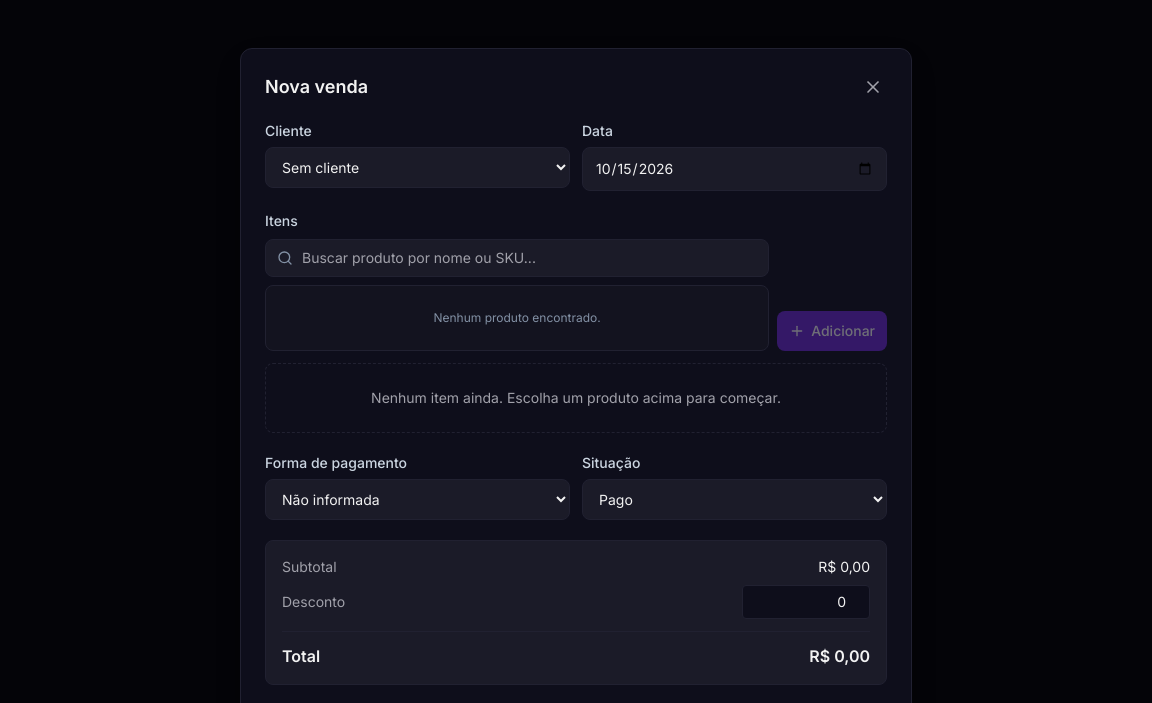
Test case: Fiado: venda a prazo pede quando cobrar › os campos do fiado só aparecem quando a venda é a prazo
Select "Pendente" in the dropdown labelled "Situação". click: [734, 500]
box: x1=582 y1=479 x2=887 y2=520
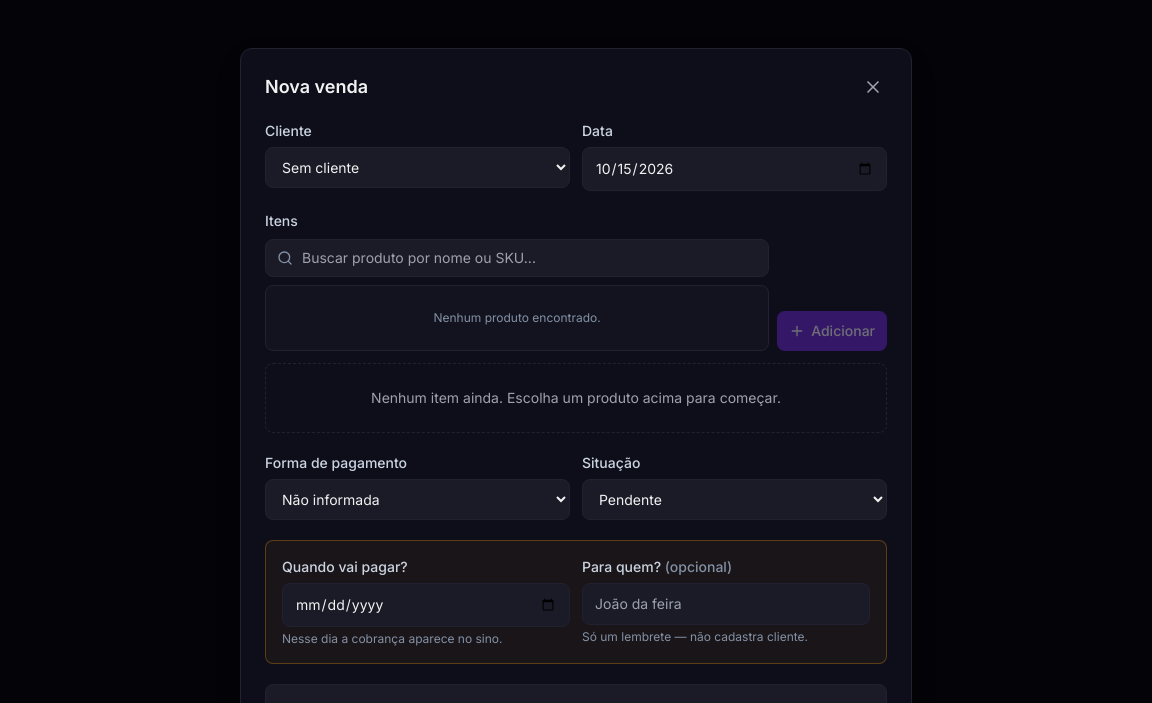
expect the element with test id "venda-fiado-campos" is shown: met, box x1=265 y1=540 x2=887 y2=664
